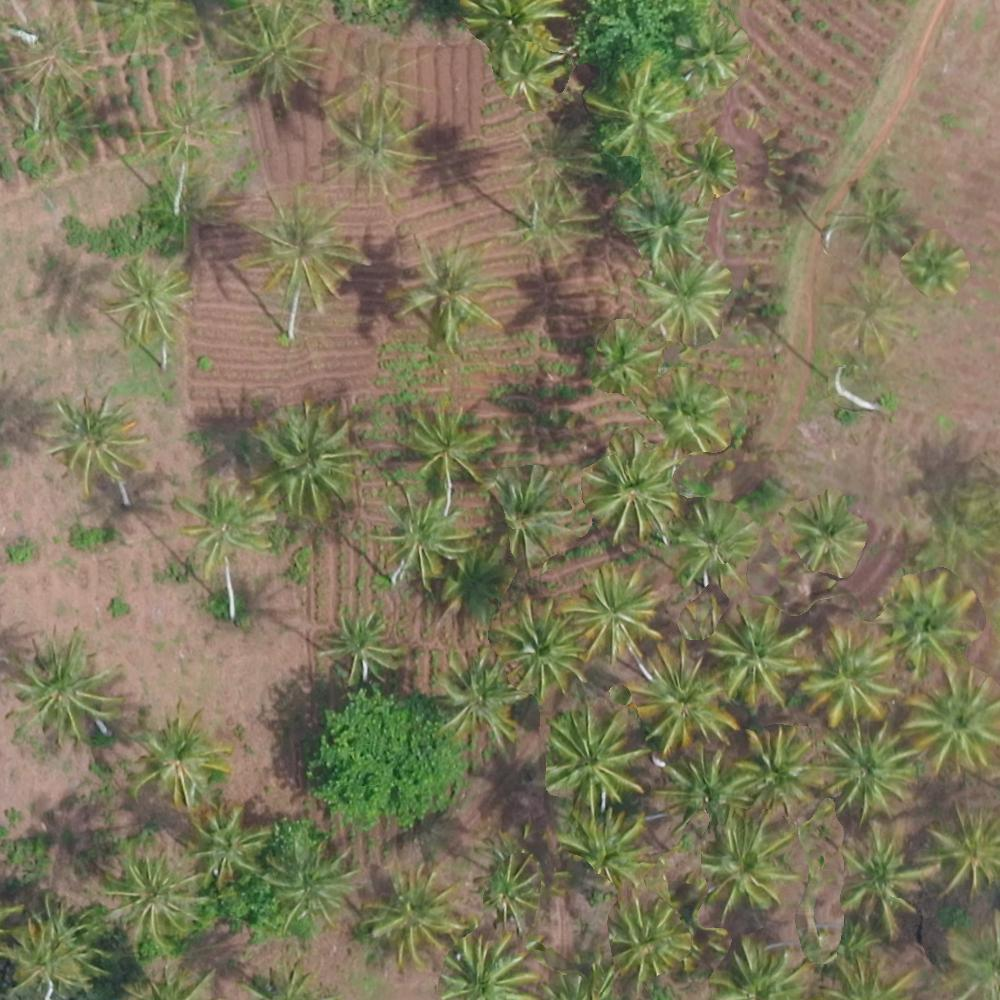Palm: (704, 601, 815, 708), (13, 632, 114, 741), (255, 405, 359, 507), (836, 827, 934, 932), (538, 713, 645, 809), (365, 867, 465, 967), (628, 651, 732, 746), (253, 200, 355, 296), (584, 439, 680, 539), (397, 235, 495, 331), (103, 849, 202, 944), (881, 572, 979, 667), (804, 627, 899, 725), (562, 564, 659, 655), (490, 595, 581, 692), (910, 672, 1000, 770), (603, 894, 698, 986), (488, 467, 578, 561), (818, 726, 914, 814), (131, 712, 224, 802), (43, 394, 143, 477), (429, 654, 519, 746), (698, 822, 786, 912), (554, 804, 649, 884), (5, 909, 95, 993), (595, 65, 685, 149), (638, 254, 727, 335), (182, 486, 270, 566), (377, 497, 465, 577), (657, 751, 740, 835), (434, 935, 540, 1000), (736, 726, 815, 813), (109, 259, 192, 339), (653, 369, 733, 452), (187, 806, 266, 890), (704, 932, 801, 1000), (267, 842, 348, 923), (470, 849, 546, 933), (410, 401, 492, 478), (925, 807, 1000, 891), (313, 605, 398, 679), (676, 498, 751, 580), (675, 12, 753, 86), (787, 493, 865, 565), (628, 185, 701, 249), (905, 227, 971, 297), (591, 324, 658, 389), (491, 38, 555, 105), (692, 134, 741, 190)
